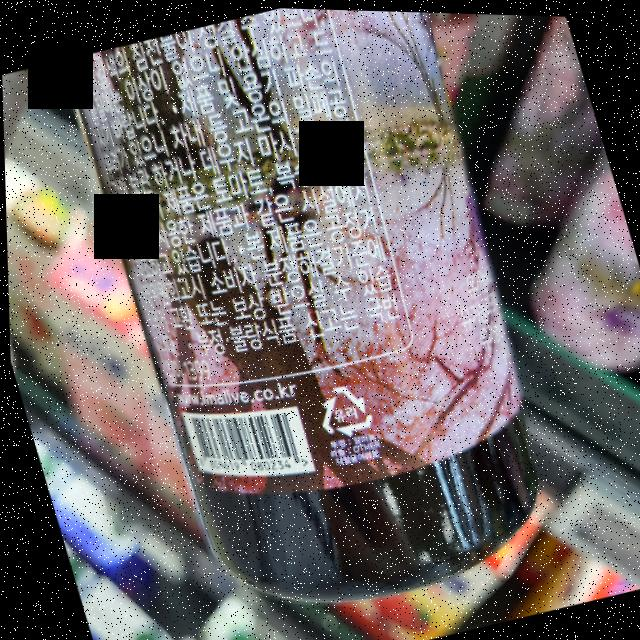Glass: (305, 370, 378, 446)
